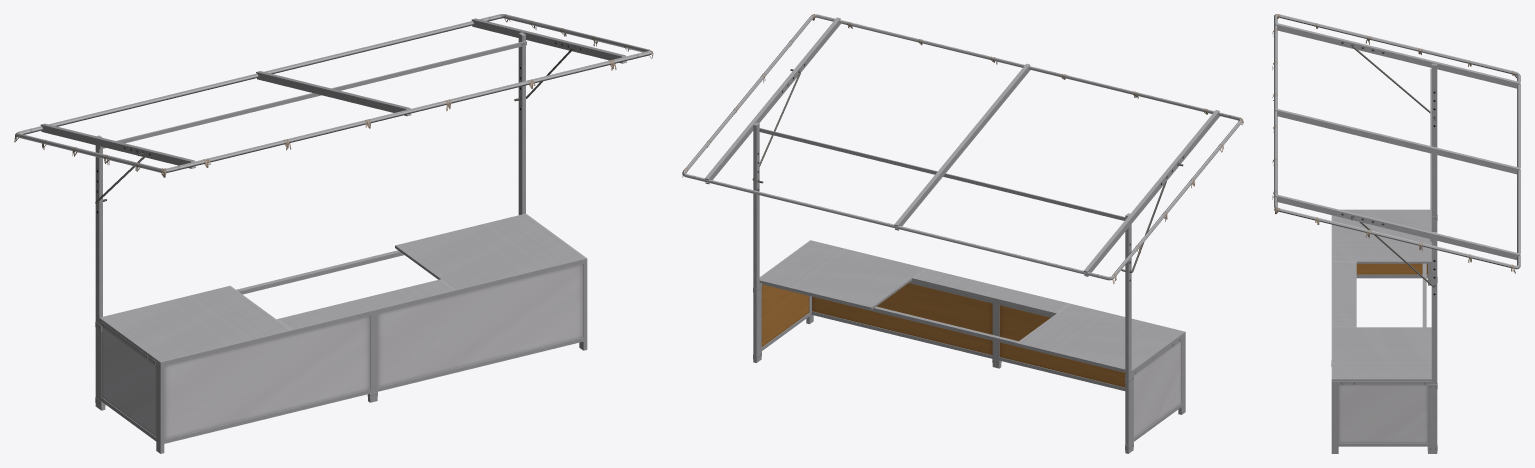
File: jsf_2P_s04_c04_t02.fbx
3 renders of one model, left to right at view 1: azimuth 30°, elevation 25°; view 2: azimuth 150°, elevation 25°; view 3: azimuth 270°, elevation 25°, orthographic. The views are drawn at different scales.
Visible parts, largest first — view 1: Base_s04_c04, Table_2P_s04_t02, Pillar2_s04, Rope_2P_s04; view 2: Base_s04_c04, Table_2P_s04_t02, Pillar2_s04; view 3: Pillar2_s04, Table_2P_s04_t02, Base_s04_c04, Rope_2P_s04.
Boxes of the visible parts, x1,y1,x2,y2 form: Base_s04_c04: [95, 258, 587, 453]; Table_2P_s04_t02: [99, 213, 586, 365]; Pillar2_s04: [15, 14, 651, 408]; Rope_2P_s04: [14, 14, 653, 177]; Base_s04_c04: [753, 240, 1185, 451]; Table_2P_s04_t02: [759, 240, 1184, 374]; Pillar2_s04: [682, 14, 1242, 453]; Pillar2_s04: [1274, 14, 1520, 453]; Table_2P_s04_t02: [1332, 209, 1431, 384]; Base_s04_c04: [1331, 215, 1437, 453]; Rope_2P_s04: [1272, 14, 1516, 273].
Size of the model in its own units: 395 by 244 by 211.
